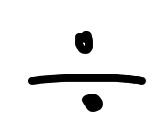div: (28, 31, 146, 112)
